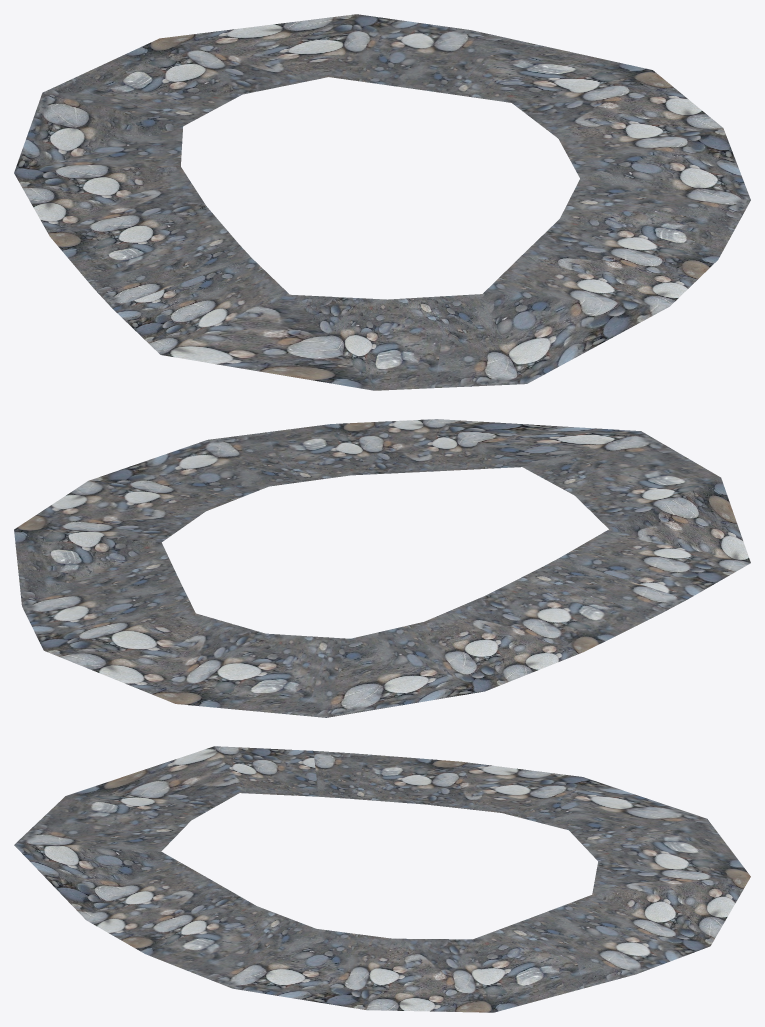
The model's file is UnderRockMesh1.fbx.
3 views of the same model, one above another, from view 1: azimuth 30°, elevation 25°; view 2: azimuth 150°, elevation 25°; view 3: azimuth 270°, elevation 25° (orthographic). The views are drawn at different scales.
Visible parts, largest first — view 1: Plane; view 2: Plane; view 3: Plane.
Boxes of the visible parts, x1,y1,x2,y2 form: Plane: (14, 14, 750, 390); Plane: (14, 419, 750, 717); Plane: (14, 746, 750, 1012).
Size of the model in its own units: 1.33 by 0.0267 by 1.56.
